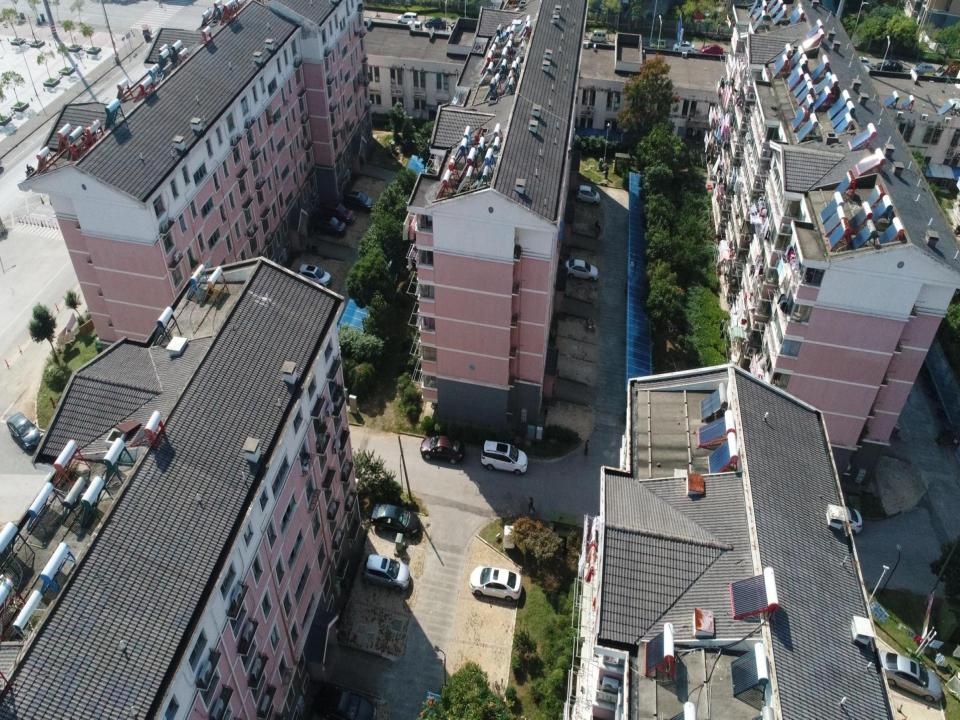car: (878, 651, 943, 704), (313, 681, 377, 719), (469, 564, 522, 602), (362, 554, 410, 592), (371, 502, 421, 538), (481, 439, 528, 475), (6, 412, 43, 452), (420, 435, 464, 463), (823, 506, 863, 536), (297, 264, 331, 289), (321, 201, 355, 226), (314, 213, 346, 239), (565, 258, 598, 282), (344, 190, 374, 214), (576, 184, 601, 206), (876, 59, 902, 73), (912, 62, 936, 75), (673, 40, 694, 54), (701, 44, 723, 56), (425, 17, 446, 29), (397, 12, 418, 24), (854, 56, 872, 70), (649, 38, 666, 51), (450, 20, 471, 30)
van: (589, 30, 606, 44), (406, 20, 422, 33)
